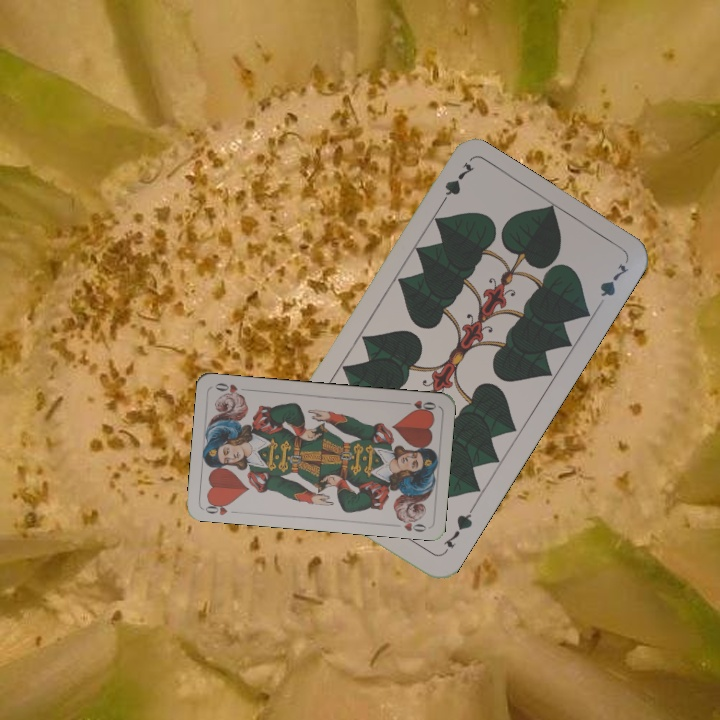G7: (434, 158, 477, 212), (438, 504, 476, 557)
HO: (201, 497, 241, 518), (399, 396, 439, 415)
